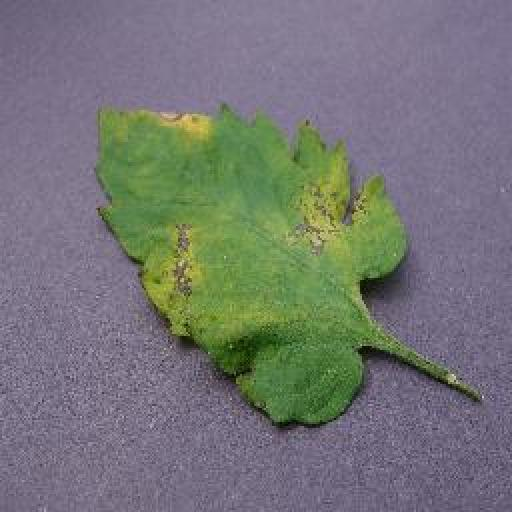disease_tomato: (99, 98, 408, 430)
